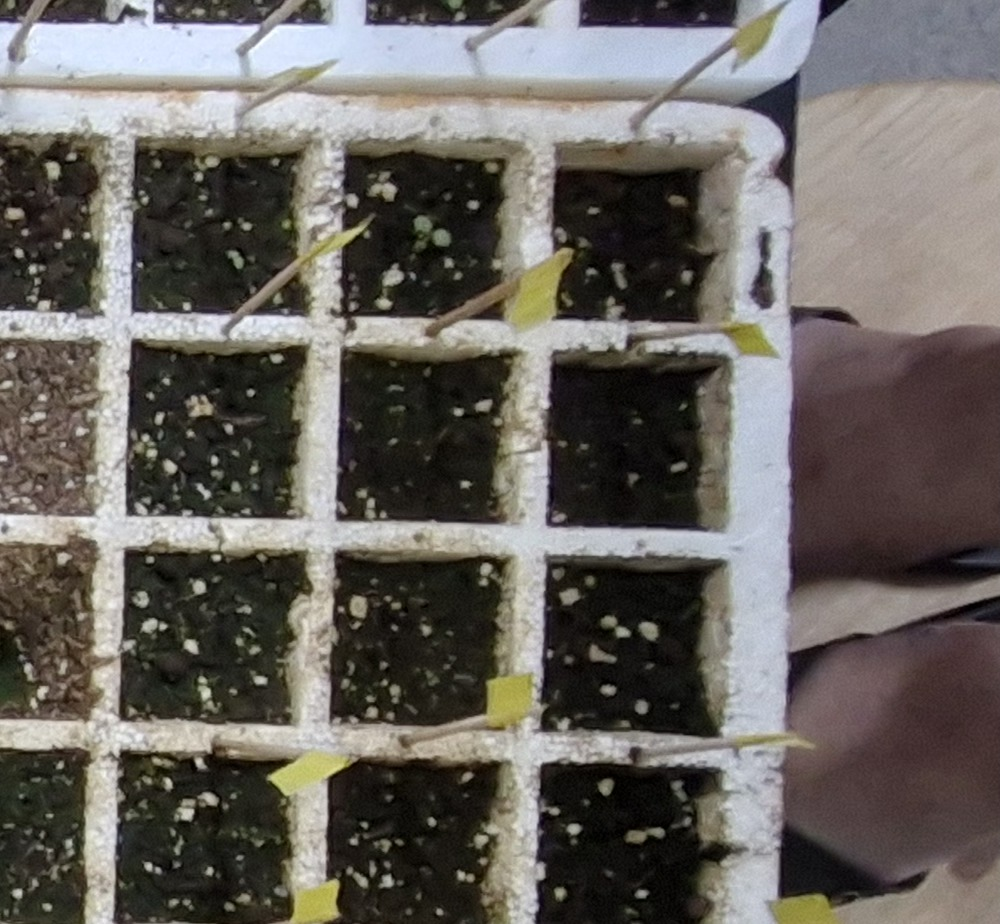Folha: (433, 229, 450, 245), (417, 215, 434, 231)
Germinacao: (416, 215, 454, 245)
